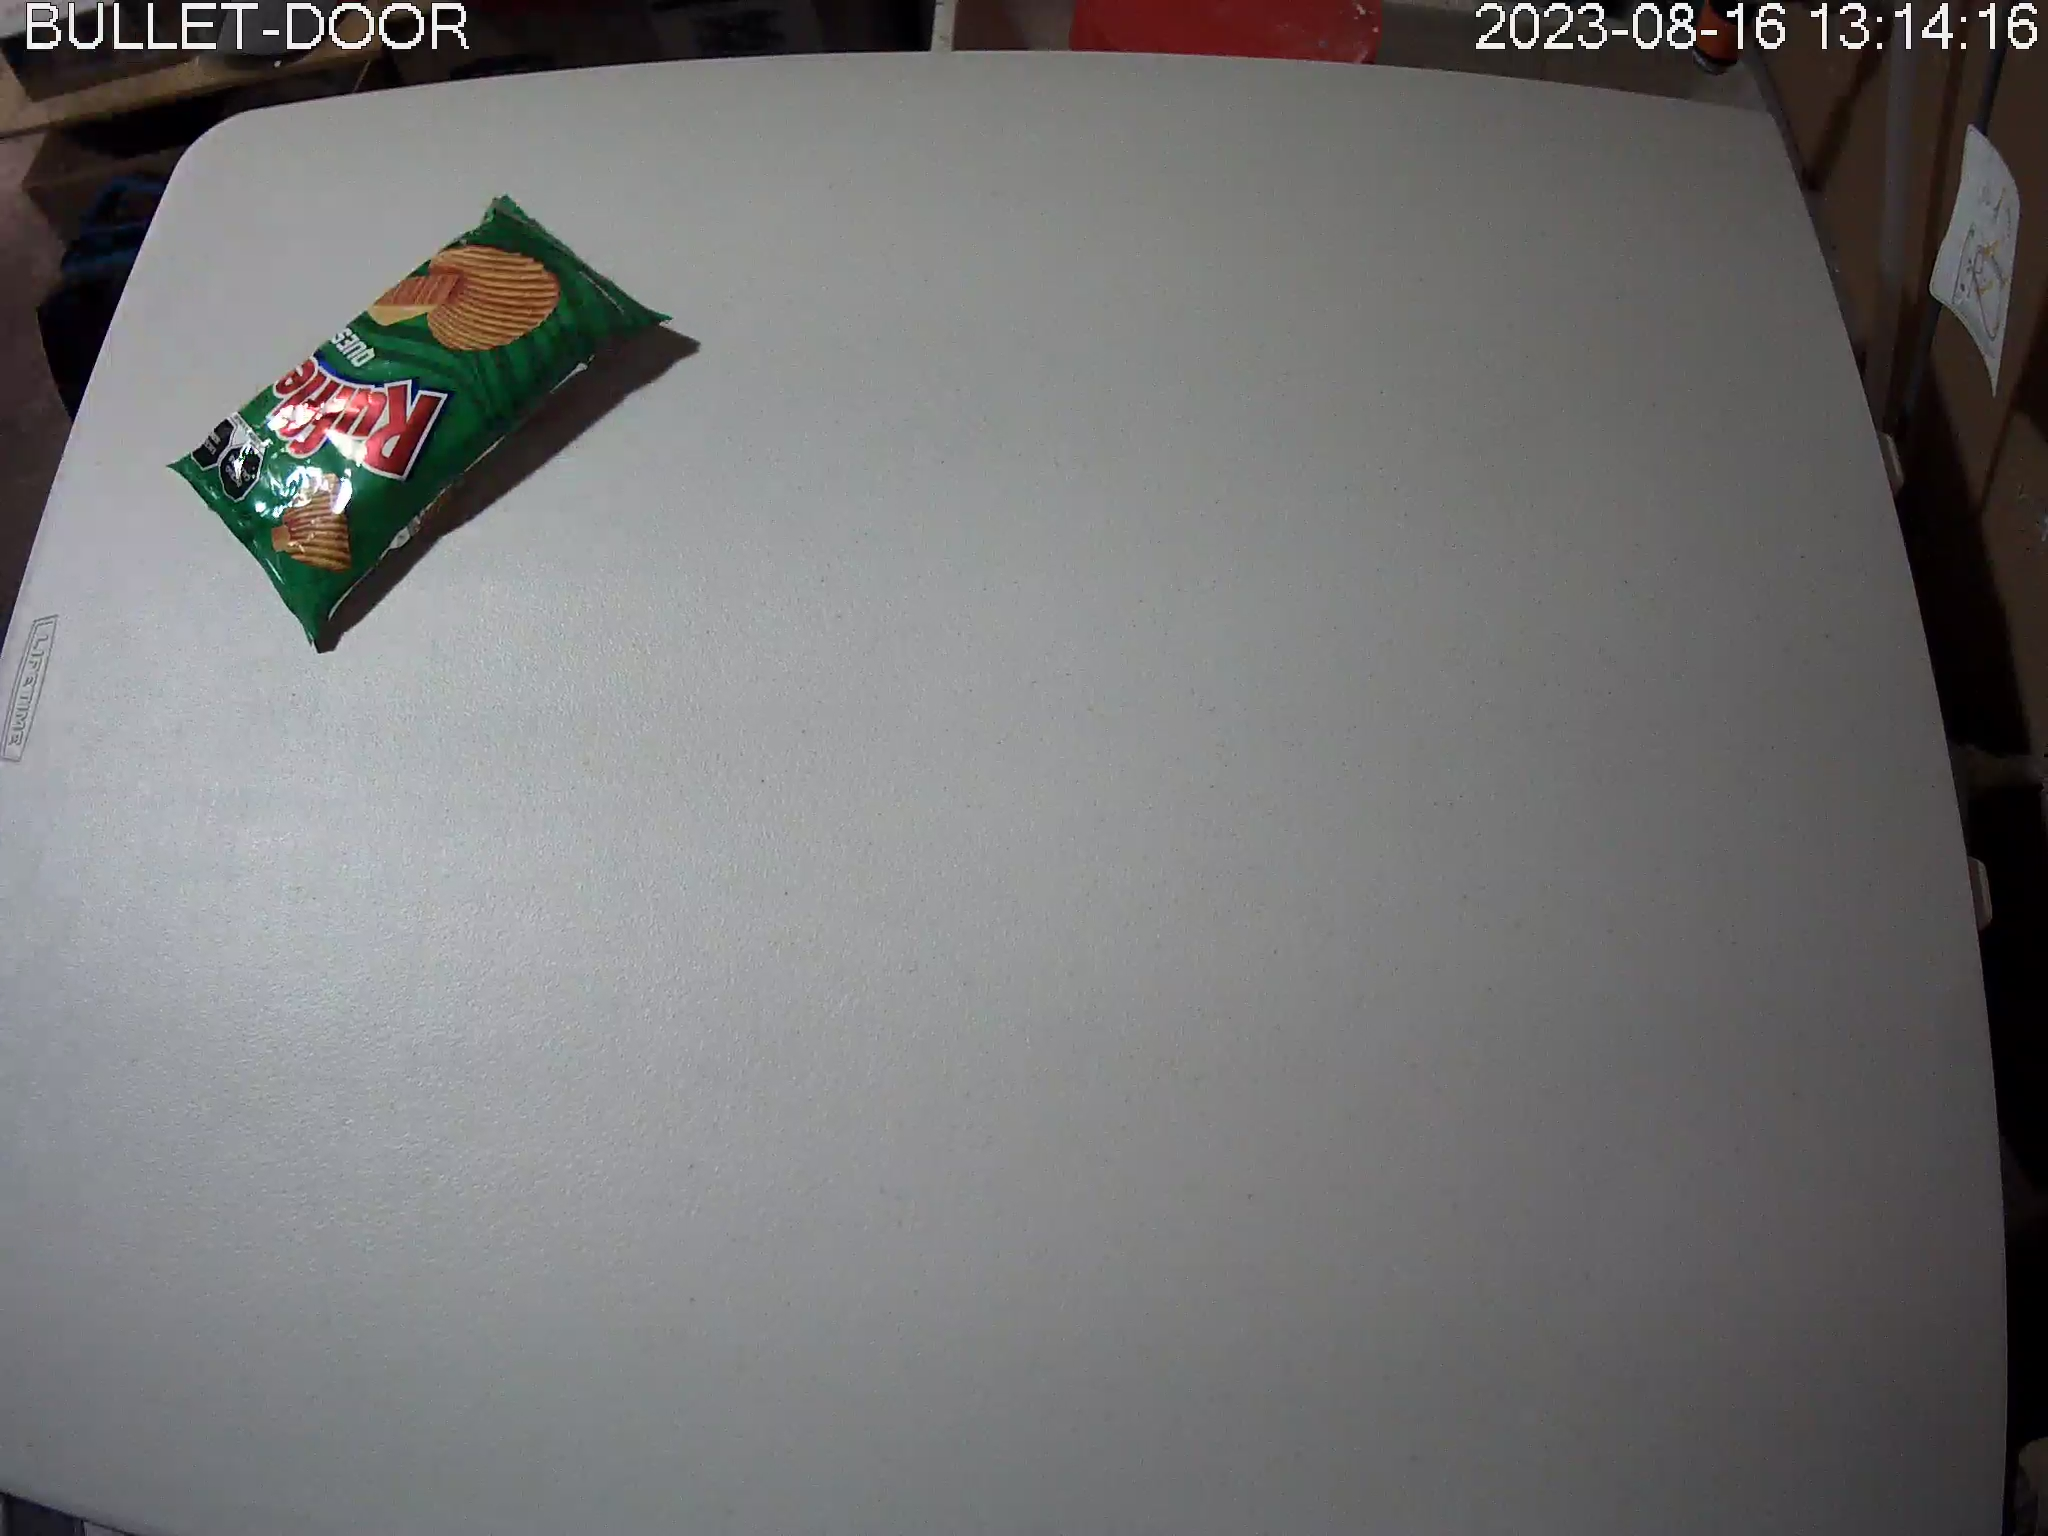RufflesQ_48_F: (164, 195, 677, 649)
